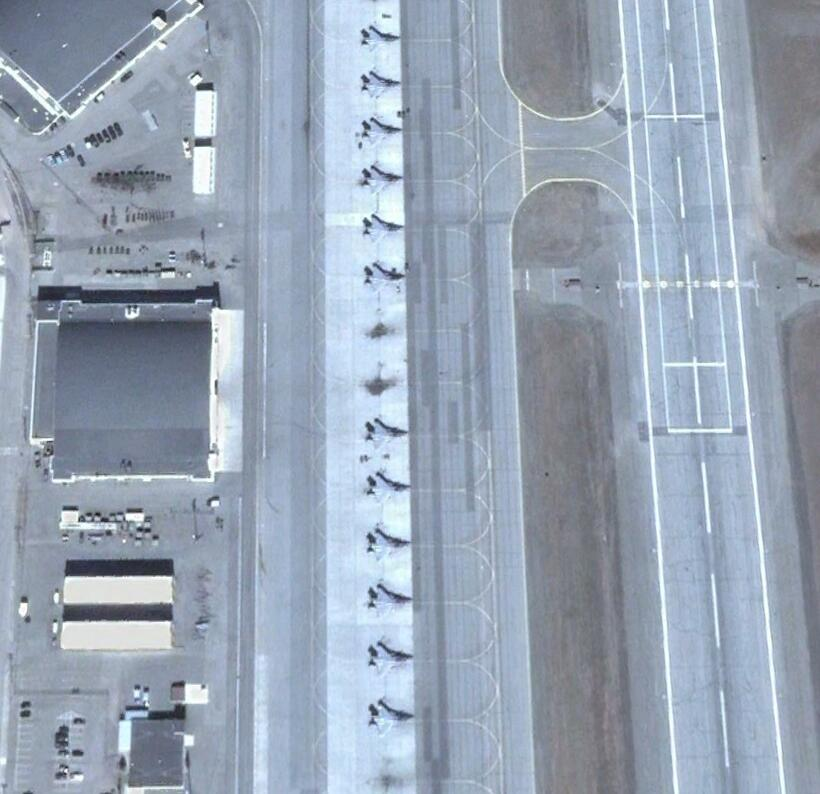A13: (369, 700, 419, 737), (367, 641, 415, 675), (366, 471, 413, 504), (365, 528, 412, 561), (361, 214, 409, 246), (367, 585, 416, 616), (364, 417, 410, 449), (360, 165, 405, 194), (363, 262, 406, 291), (361, 70, 402, 100), (360, 118, 403, 146), (360, 24, 399, 52)
